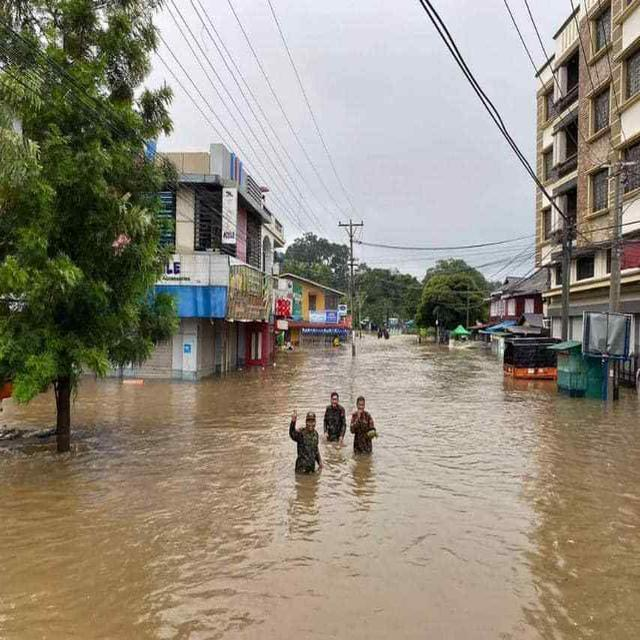Person-RiskLevel2: (280, 405, 328, 488), (346, 391, 391, 462), (310, 381, 351, 452)
